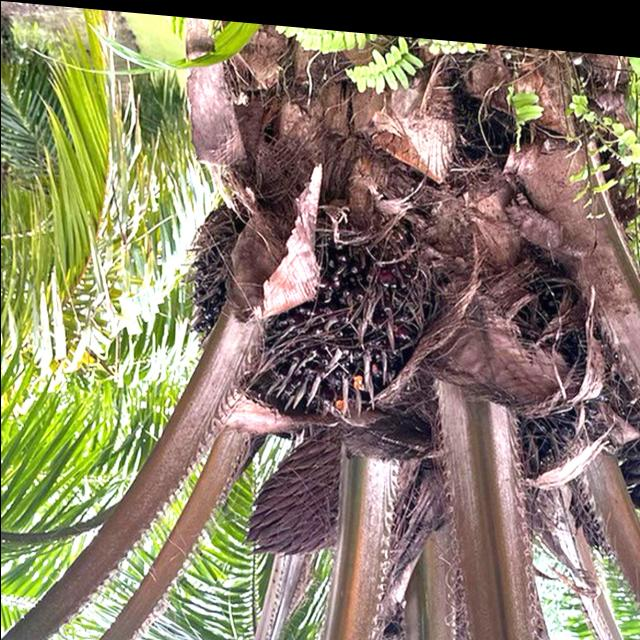ripe: (182, 219, 416, 423)
